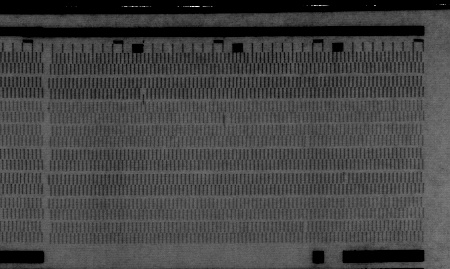Broken hole: (220, 112, 233, 124)
Oblique printing: (300, 135, 314, 149), (298, 220, 311, 235), (137, 87, 148, 101), (339, 171, 350, 185)
